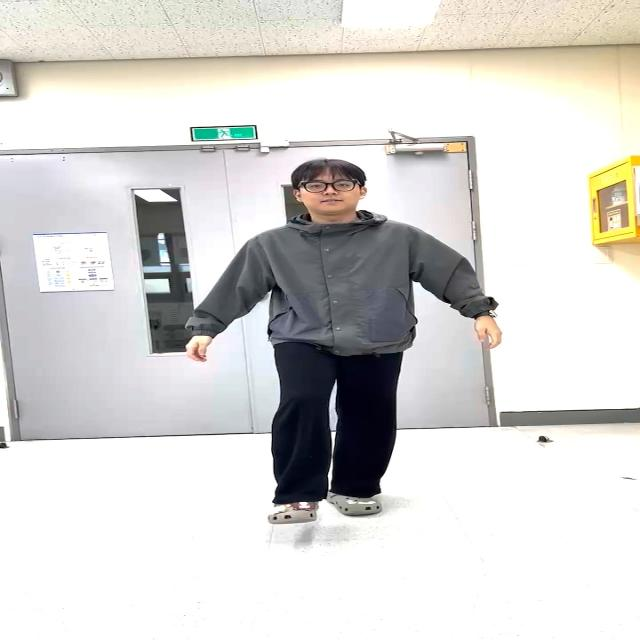leg: (271, 349, 339, 527)
